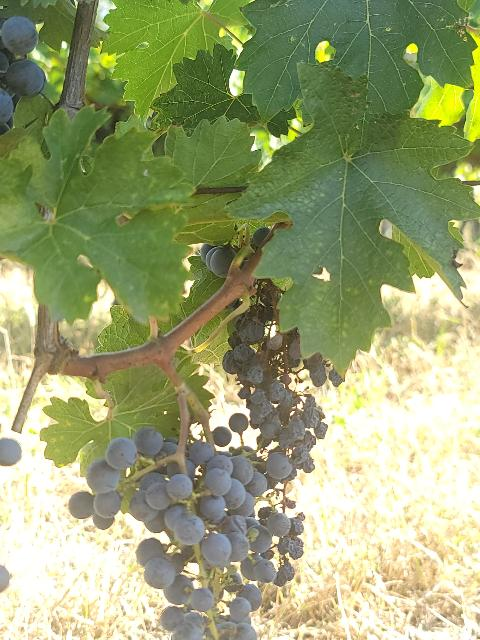grapes: (69, 428, 276, 640), (222, 280, 341, 586)
